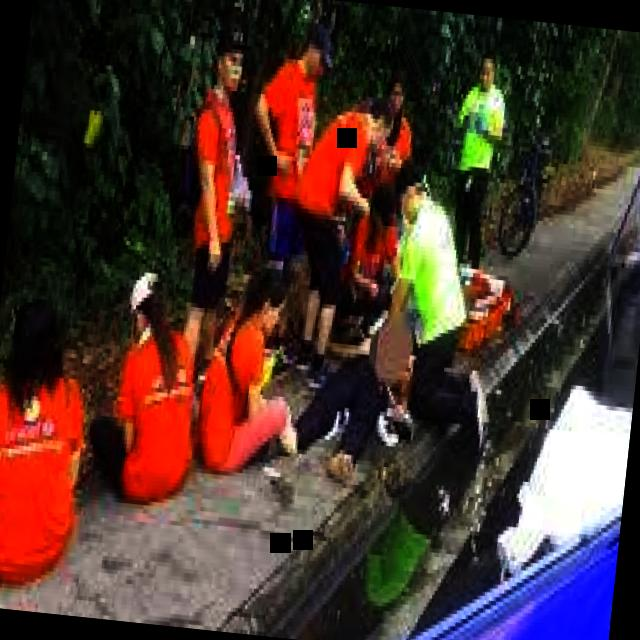Fall-Detected: (252, 290, 424, 486)
